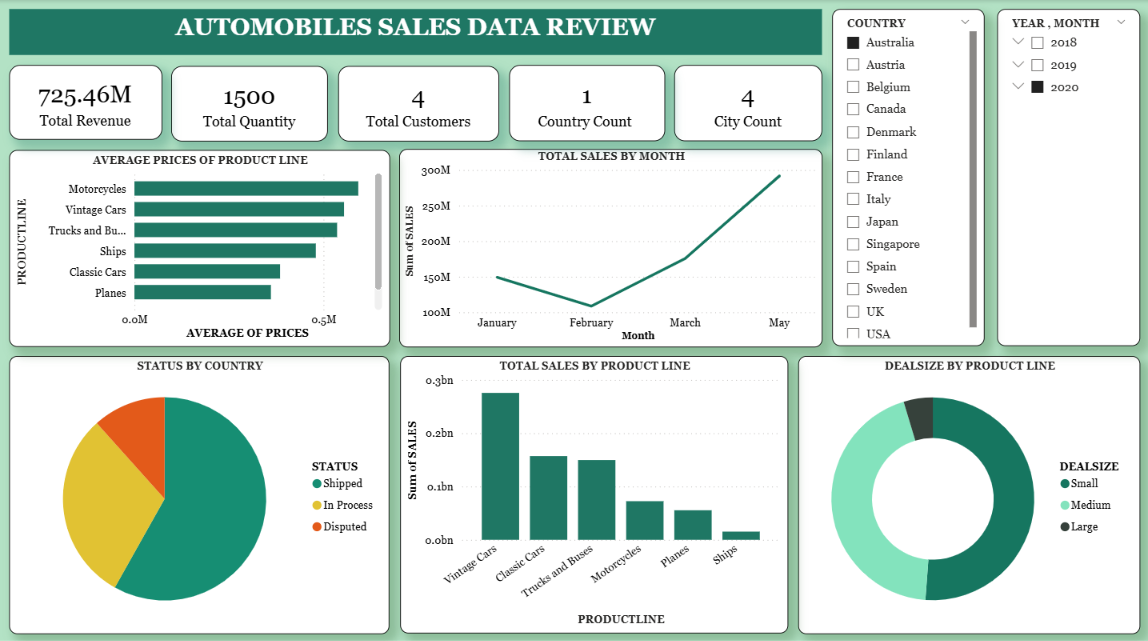

What the dashboard file says about the page in this screenshot:
{"tool":"powerbi","page":{"name":"Page 1","canvas":[1280,720],"ordinal":0},"visuals":[{"type":"card","fields":{"Values":["Sum(Auto Sales data.QUANTITYORDERED)"]},"box":[191.9,73.3,174.4,83.7],"z":0},{"type":"card","fields":{"Values":["Count(Auto Sales data.CUSTOMERNAME)"]},"box":[377.9,73.3,179.1,83.7],"z":1000},{"type":"textbox","box":[11.6,10.5,904.7,51.2],"z":2000},{"type":"lineChart","title":"TOTAL SALES BY MONTH","fields":{"Category":["Auto Sales data.ORDERDATE.Variation.Date Hierarchy.Month"],"Y":["Sum(Auto Sales data.SALES)"]},"box":[445.4,166.3,470.9,220.9],"z":3000},{"type":"card","fields":{"Values":["Count(Auto Sales data.CITY)"]},"box":[751.2,72.1,165.1,84.9],"z":4000},{"type":"pieChart","title":"STATUS BY COUNTRY","fields":{"Category":["Auto Sales data.STATUS"],"Y":["CountNonNull(Auto Sales data.COUNTRY)"]},"box":[11.3,396.7,423.4,309.5],"z":5000},{"type":"donutChart","title":"DEALSIZE BY PRODUCT LINE","fields":{"Category":["Auto Sales data.DEALSIZE"],"Y":["CountNonNull(Auto Sales data.PRODUCTLINE)"]},"box":[889,396.7,381.2,309.5],"z":6000},{"type":"lineClusteredColumnComboChart","title":"TOTAL SALES BY PRODUCT LINE ","fields":{"Y":["Sum(Auto Sales data.SALES)","select"],"Category":["Auto Sales data.PRODUCTLINE"]},"box":[446,396.6,432.2,309.2],"z":7000},{"type":"card","fields":{"Values":["Count(Auto Sales data.COUNTRY)"]},"box":[567.4,72.1,173.3,84.9],"z":8000},{"type":"slicer","fields":{"Values":["Auto Sales data.ORDERDATE.Variation.Date Hierarchy.Year","Auto Sales data.ORDERDATE.Variation.Date Hierarchy.Quarter","Auto Sales data.ORDERDATE.Variation.Date Hierarchy.Month","Auto Sales data.ORDERDATE.Variation.Date Hierarchy.Day"]},"box":[1110.7,9.9,159.5,375.4],"z":9000},{"type":"clusteredBarChart","title":"AVERAGE PRICES OF PRODUCT LINE","fields":{"Category":["Auto Sales data.PRODUCTLINE"],"Y":["Avg(Auto Sales data.PRICEEACH)"]},"box":[11.5,166.7,424.1,219.5],"z":10000},{"type":"slicer","fields":{"Values":["Auto Sales data.COUNTRY"]},"box":[927.2,9.9,169.3,375.4],"z":11000},{"type":"card","fields":{"Values":["Sum(Auto Sales data.SALES)","select","select1","select2"]},"box":[11.4,72.9,170,82.9],"z":12000}]}

Visuals, with their boxes in screenshot pixels (x1, y1, x2, y2), scaled from the page's 1280x720 canvas onto the 1148x641 screenshot:
card - Sum(Auto Sales data.QUANTITYORDERED): 172/65/329/140
card - Count(Auto Sales data.CUSTOMERNAME): 339/65/500/140
textbox: 10/9/822/55
"TOTAL SALES BY MONTH" lineChart: 399/148/822/345
card - Count(Auto Sales data.CITY): 674/64/822/140
"STATUS BY COUNTRY" pieChart: 10/353/390/629
"DEALSIZE BY PRODUCT LINE" donutChart: 797/353/1139/629
"TOTAL SALES BY PRODUCT LINE " lineClusteredColumnComboChart: 400/353/788/628
card - Count(Auto Sales data.COUNTRY): 509/64/664/140
slicer - Auto Sales data.ORDERDATE.Variation.Date Hierarchy.Year x Auto Sales data.ORDERDATE.Variation.Date Hierarchy.Quarter: 996/9/1139/343
"AVERAGE PRICES OF PRODUCT LINE" clusteredBarChart: 10/148/391/344
slicer - Auto Sales data.COUNTRY: 832/9/983/343
card - Sum(Auto Sales data.SALES) x select: 10/65/163/139
